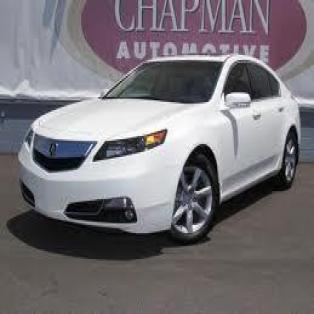Auto: (14, 55, 302, 246)
